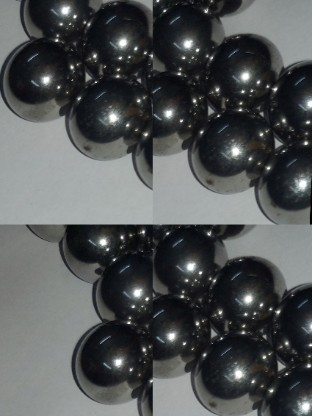ironball: (186, 105, 276, 194), (206, 254, 293, 341), (199, 26, 285, 109), (187, 331, 274, 413), (67, 75, 145, 162), (68, 321, 150, 402), (140, 71, 207, 168), (1, 45, 81, 124), (147, 224, 227, 303), (84, 0, 155, 78), (251, 140, 312, 224), (150, 292, 207, 380), (163, 1, 225, 80), (55, 221, 134, 282), (83, 254, 150, 323), (15, 0, 103, 46), (267, 55, 310, 141), (269, 282, 310, 363), (269, 356, 310, 414), (128, 117, 152, 192), (194, 0, 249, 18)
